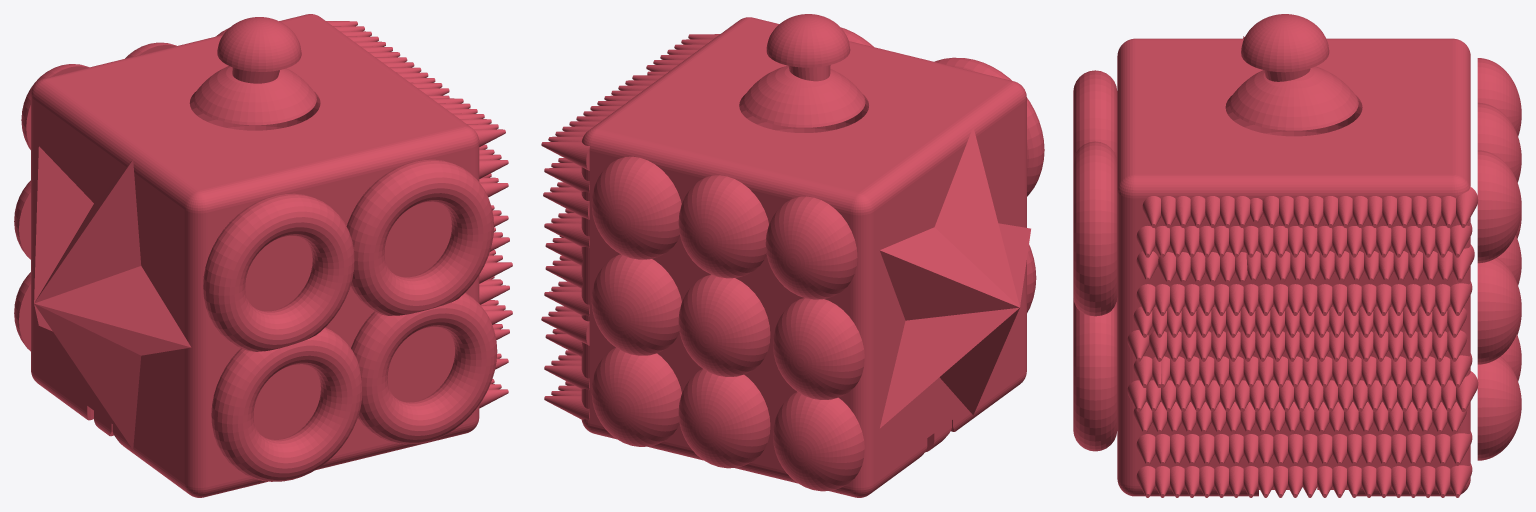
The model's file is Seth - Red (Fully).glb.
3 views of the same model, side by side, from view 1: azimuth 30°, elevation 25°; view 2: azimuth 150°, elevation 25°; view 3: azimuth 270°, elevation 25° (orthographic). The views are drawn at different scales.
Parts seen in each view (by area): view 1: Mesh_Mesh_head_geo.001_lambert2SG.001; view 2: Mesh_Mesh_head_geo.001_lambert2SG.001; view 3: Mesh_Mesh_head_geo.001_lambert2SG.001.
Part boxes in pixels (box(x1,y1,x2,y2)): Mesh_Mesh_head_geo.001_lambert2SG.001: box(14, 14, 512, 497); Mesh_Mesh_head_geo.001_lambert2SG.001: box(541, 14, 1044, 497); Mesh_Mesh_head_geo.001_lambert2SG.001: box(1073, 14, 1521, 497).
Size of the model in its own units: 0.055 by 0.0511 by 0.0508.
